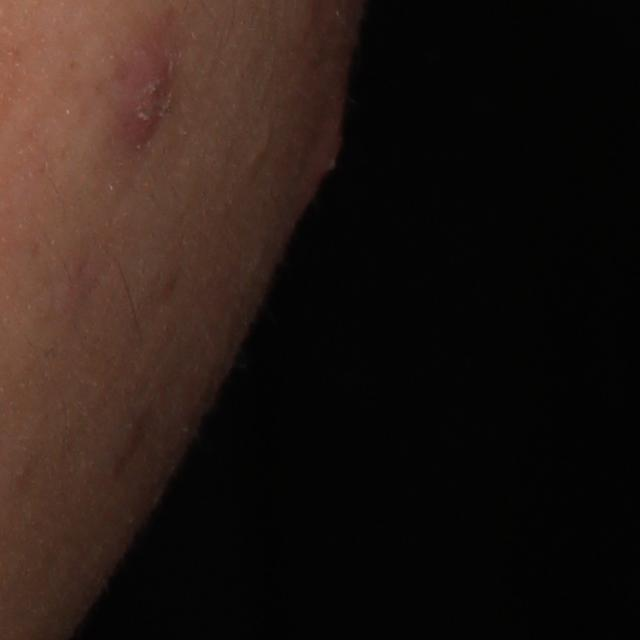papule: (104, 33, 169, 159)
